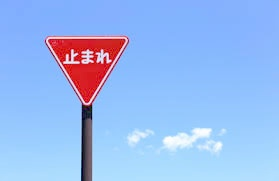Regulatory_sign_triangle: (44, 34, 134, 107)
